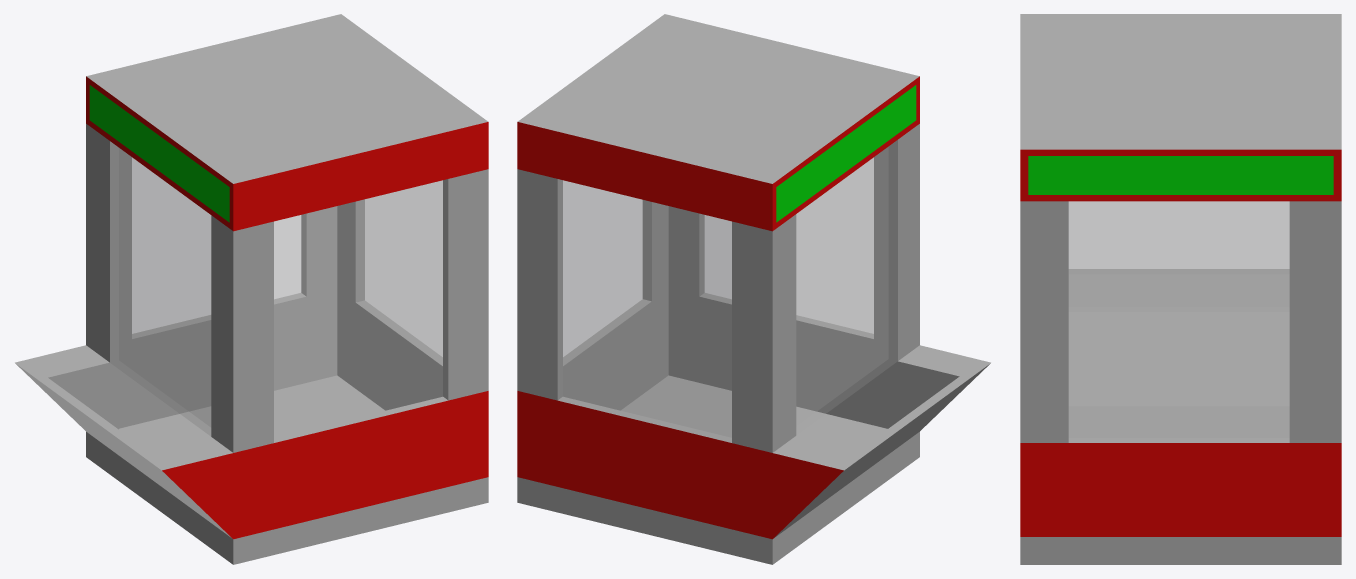
File: popcorn-machine.fbx
The picture shows the model from 3 angles, left to right: view 1: azimuth 30°, elevation 25°; view 2: azimuth 150°, elevation 25°; view 3: azimuth 270°, elevation 25°; orthographic projection. The views are drawn at different scales.
Parts seen in each view (by area): view 1: popcorn-machine; view 2: popcorn-machine; view 3: popcorn-machine.
Boxes of the visible parts, x1,y1,x2,y2 form: popcorn-machine: [15, 14, 488, 564]; popcorn-machine: [517, 14, 990, 564]; popcorn-machine: [1020, 14, 1341, 564].
Bounding box in the file's own units: 139 × 179 × 199.
